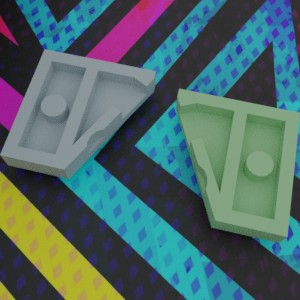lego: (0, 49, 156, 179), (175, 88, 299, 243)
